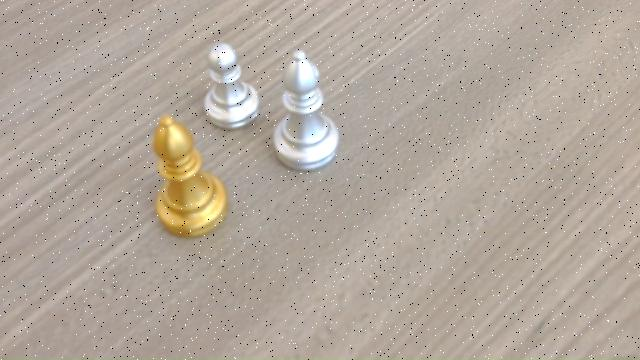black_bishop: (148, 114, 229, 238)
white_bishop: (272, 50, 339, 170)
white_pawn: (202, 43, 259, 126)
